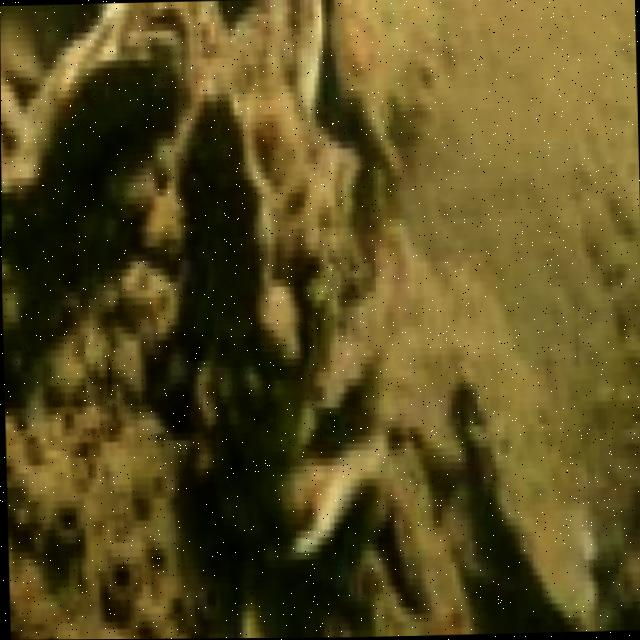Oyster-Indeterminate: (265, 448, 390, 569)
Oyster-Open: (180, 97, 334, 495), (7, 6, 186, 197)
